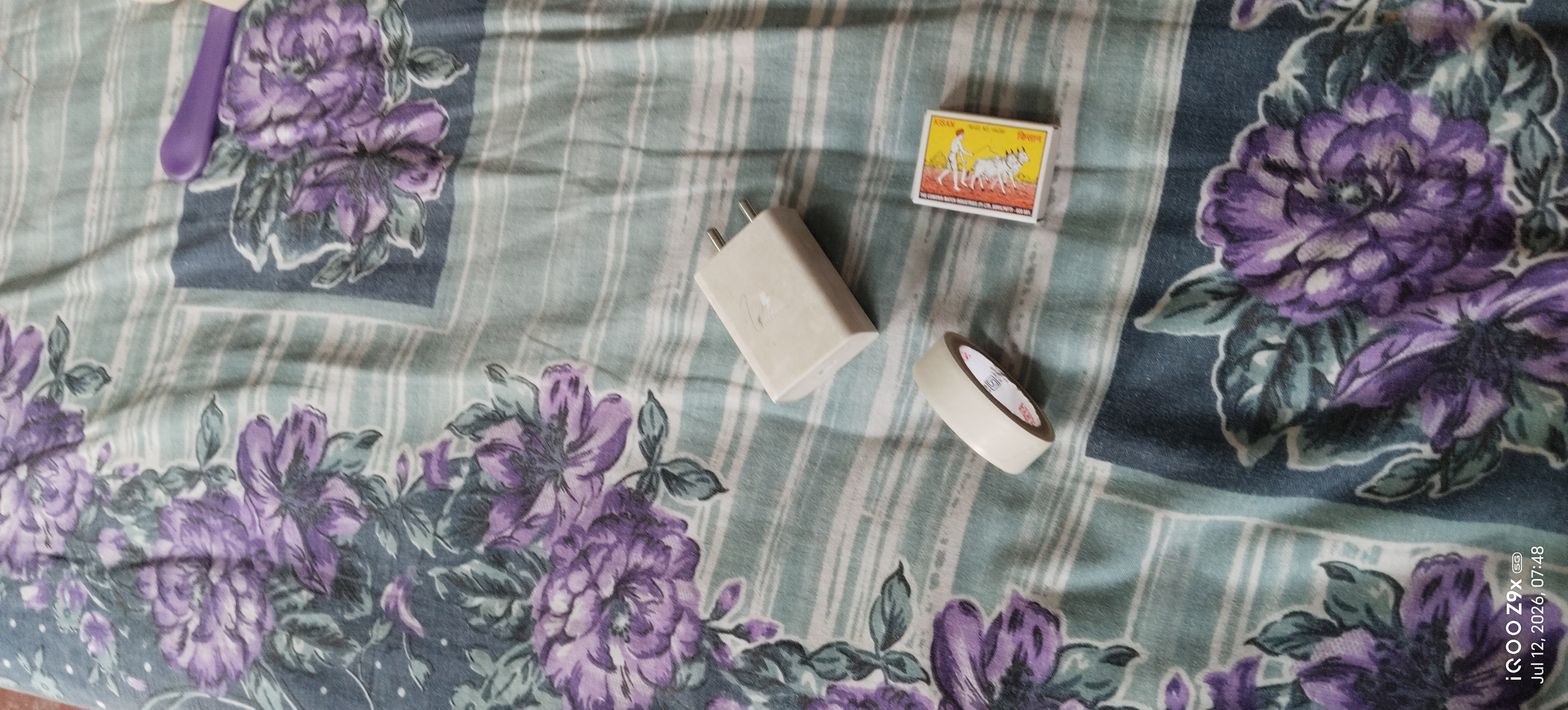charger: (675, 180, 893, 417)
matchbox: (907, 76, 1078, 251)
tape_roll: (907, 298, 1068, 530)
